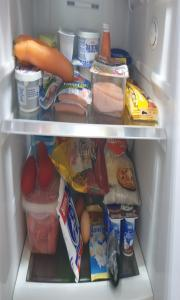Huevos: (80, 210, 92, 244), (75, 196, 86, 222)
Queso: (104, 140, 140, 206), (14, 65, 42, 112), (75, 27, 100, 62)
Salchichas: (54, 80, 92, 115)
Tomate: (22, 156, 37, 197), (38, 154, 54, 186)
Tortillas de trigo: (54, 137, 110, 194)
Yogur: (122, 205, 138, 256)
Zanahoria: (13, 35, 75, 80)
